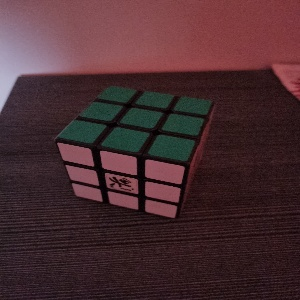cube: (53, 85, 216, 220)
